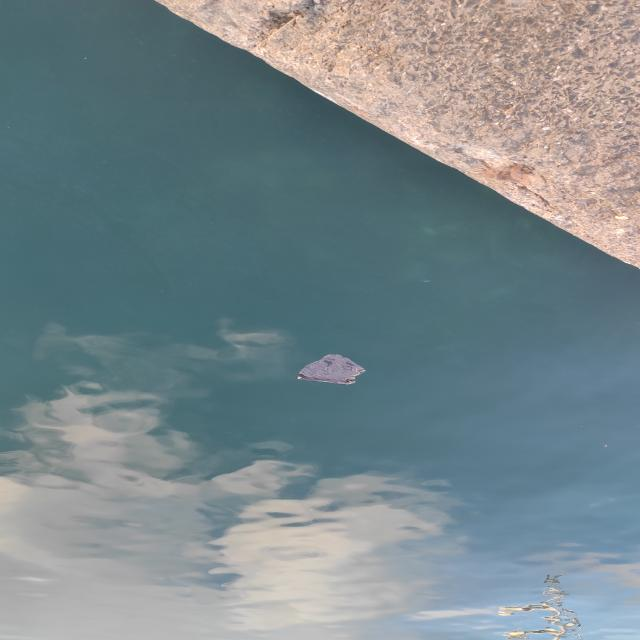Plastic bag: (294, 353, 368, 386)
